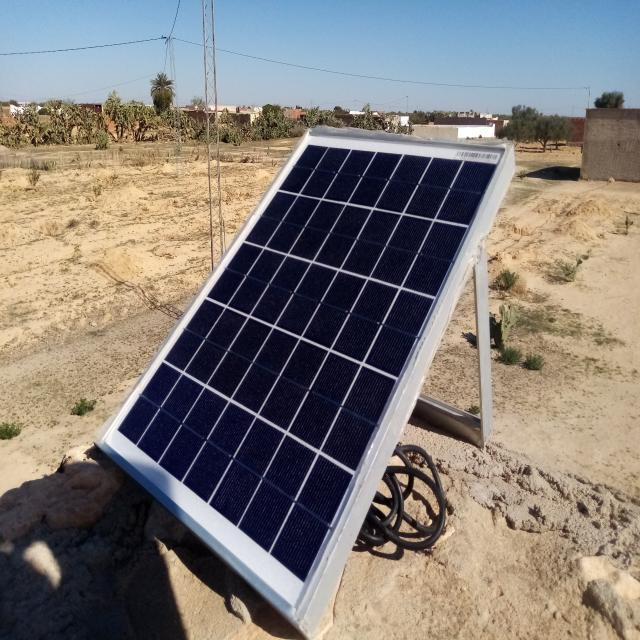Normal Solar Panel: (97, 129, 509, 617)
